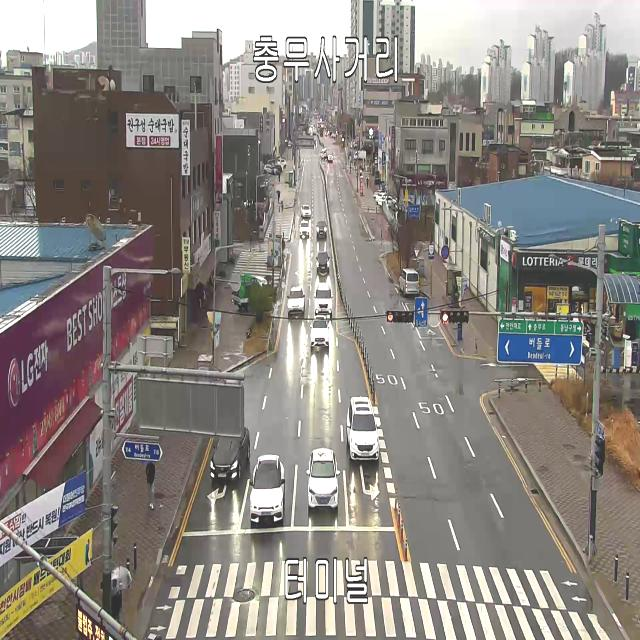Car: (250, 454, 285, 524), (210, 427, 250, 483), (347, 396, 380, 461), (306, 448, 340, 508), (314, 283, 334, 316), (310, 316, 330, 347), (398, 268, 419, 296), (287, 286, 305, 315), (316, 252, 330, 273), (378, 195, 396, 207), (316, 221, 327, 238), (262, 164, 278, 174), (299, 221, 309, 236), (301, 204, 311, 218), (376, 192, 388, 202), (373, 188, 385, 197), (277, 159, 286, 169), (374, 171, 380, 182), (328, 154, 333, 162), (374, 156, 377, 164)
Truck: (231, 276, 268, 311), (320, 147, 333, 160), (354, 151, 366, 161), (320, 128, 324, 136)
